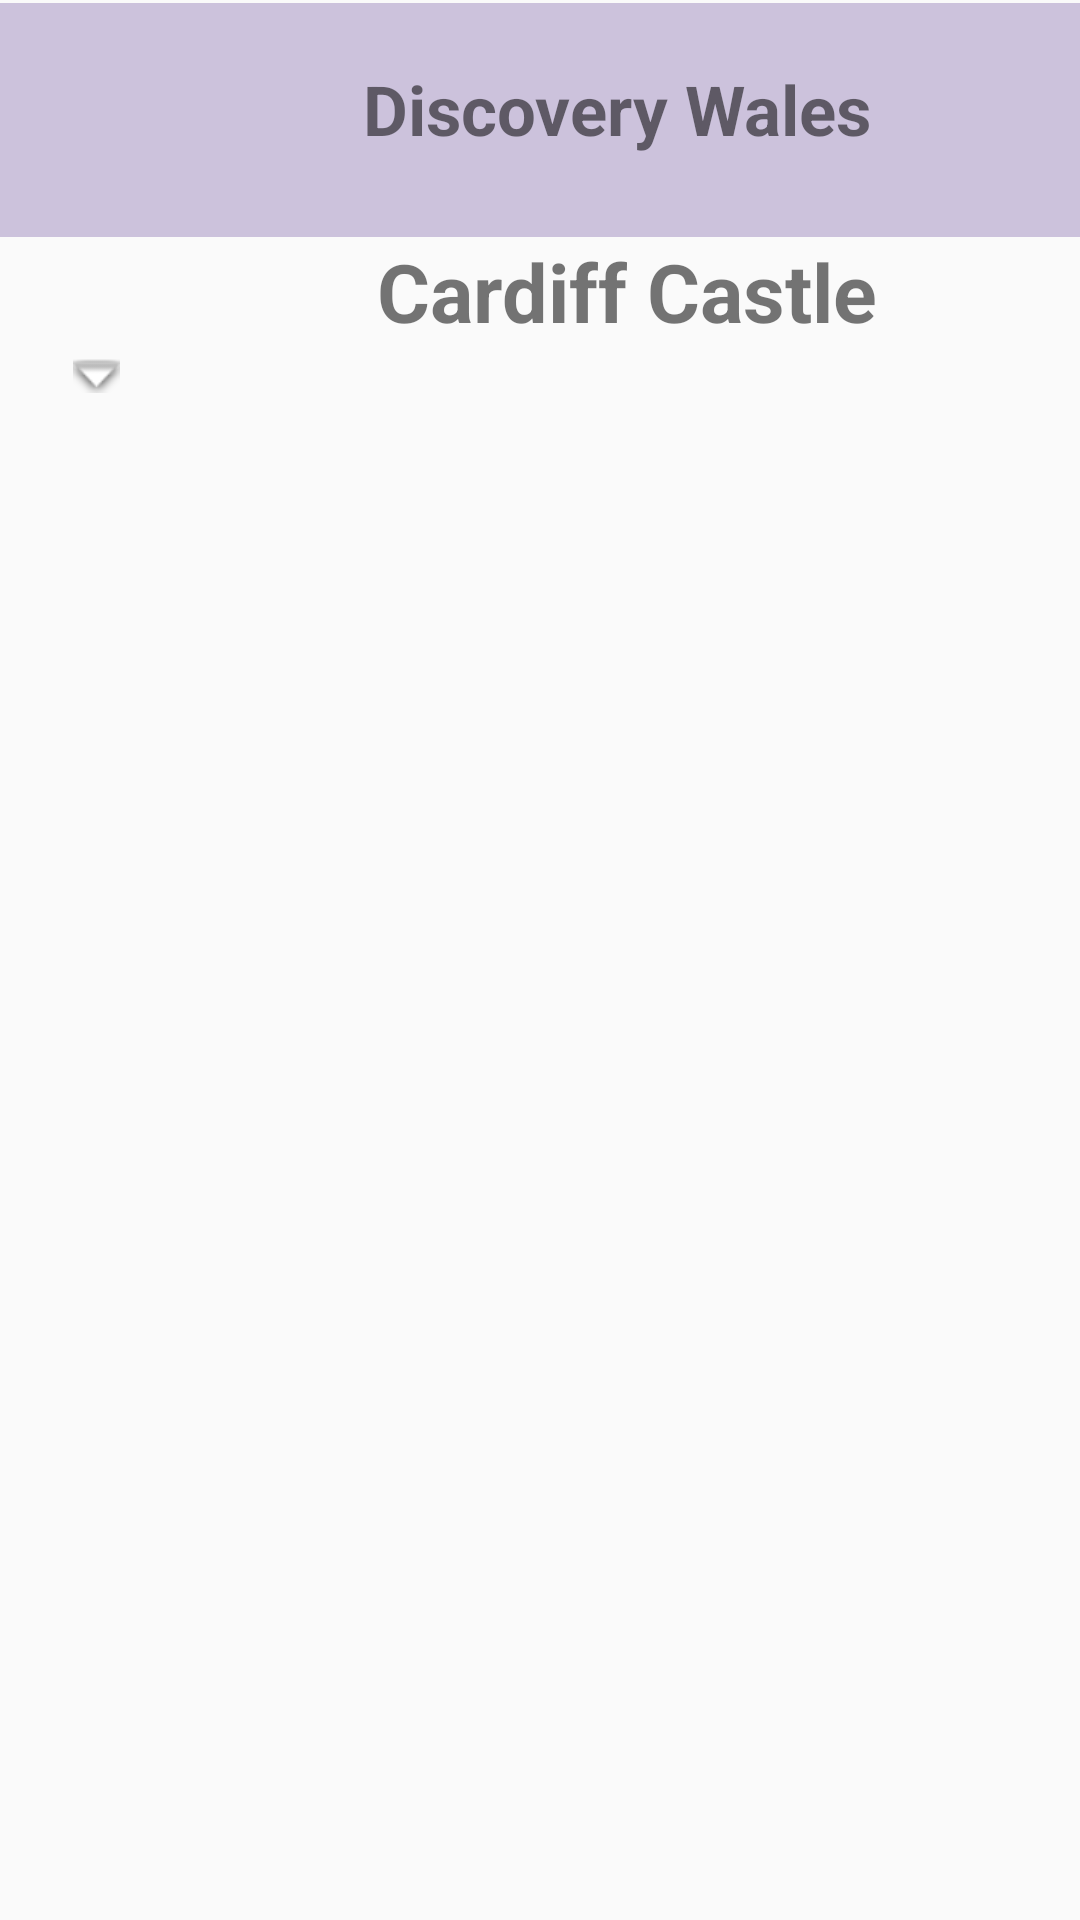

Icon bounding boxes for this 1080 x 1920 phone screenshot, format (x1, y1, x2, y2):
arrow down float: (73, 360, 120, 392)
